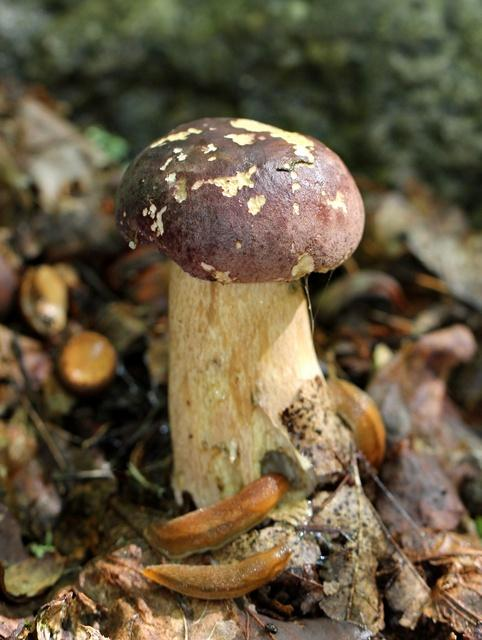Non-edible Mushroom: (113, 114, 378, 527)
